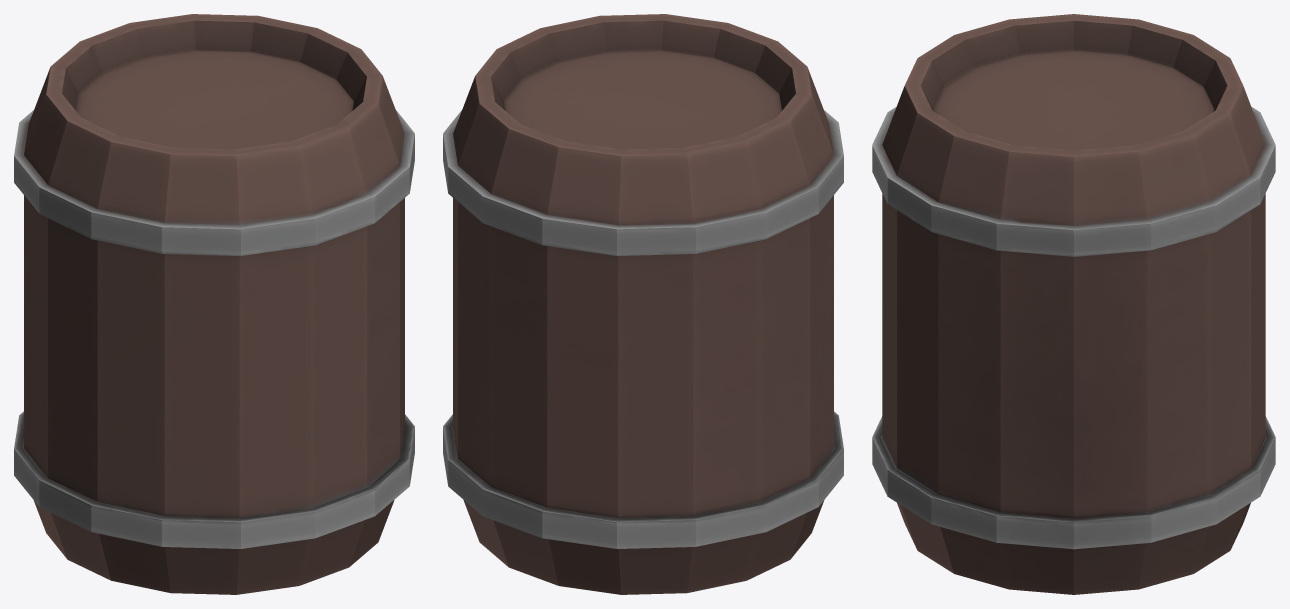
The model's file is Props_8.fbx.
3 views of the same model, side by side, from view 1: azimuth 30°, elevation 25°; view 2: azimuth 150°, elevation 25°; view 3: azimuth 270°, elevation 25° (orthographic).
Parts seen in each view (by area): view 1: Props_8; view 2: Props_8; view 3: Props_8.
Boxes of the visible parts, x1,y1,x2,y2 form: Props_8: (14,14,414,594); Props_8: (443,14,843,594); Props_8: (872,14,1275,594).
Size of the model in its own units: 25.65 by 30.71 by 25.65.
